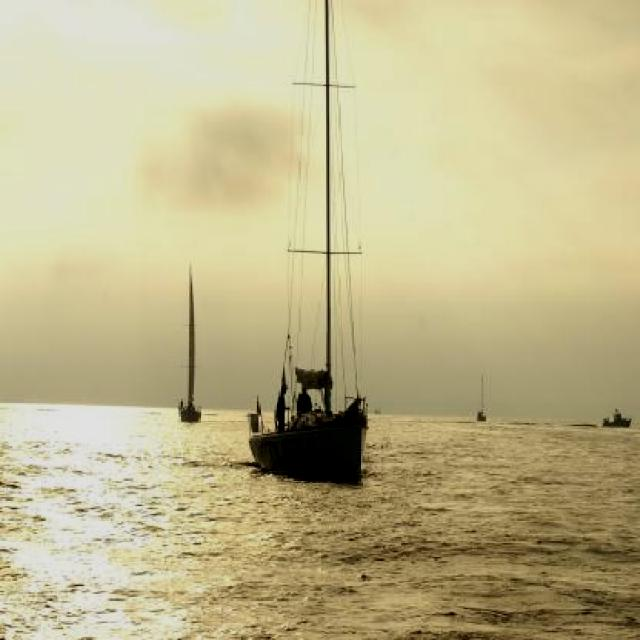ship: (248, 0, 369, 480), (177, 265, 201, 421)
